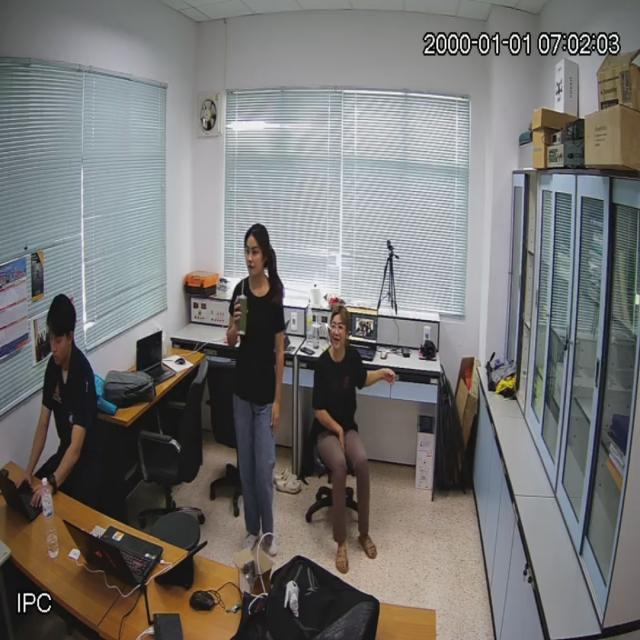normal: (14, 295, 107, 512), (228, 226, 284, 552), (312, 310, 377, 564)
